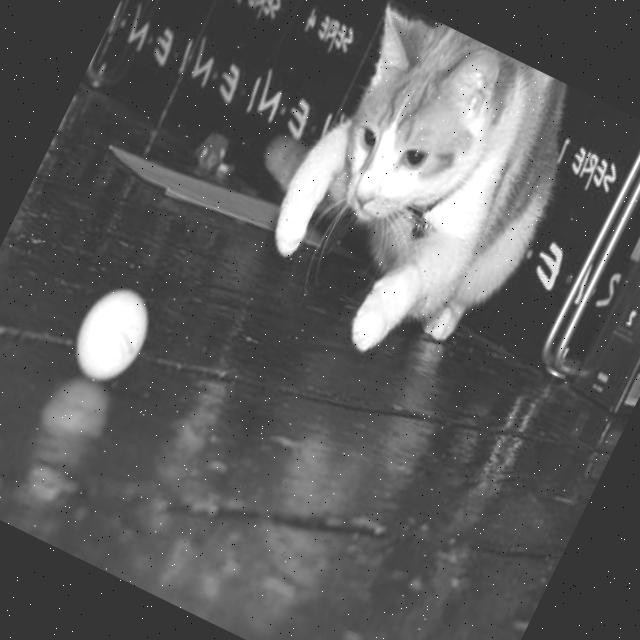ping-pong-ball: (55, 271, 166, 398)
